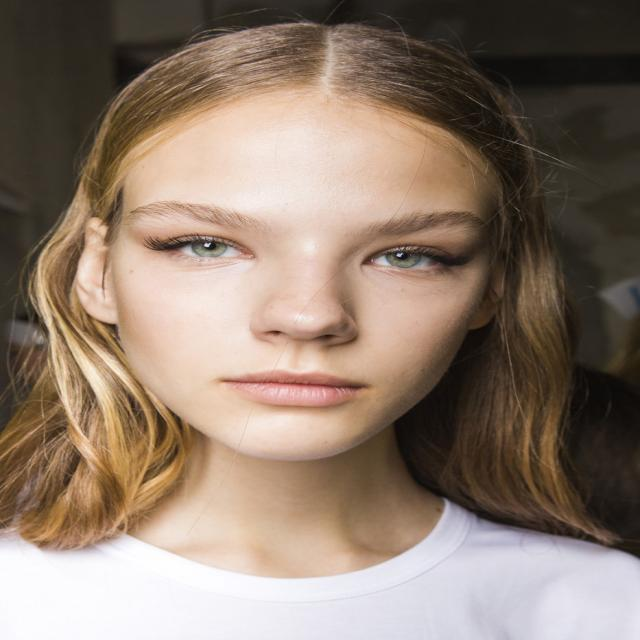earlobe: (71, 217, 119, 325)
